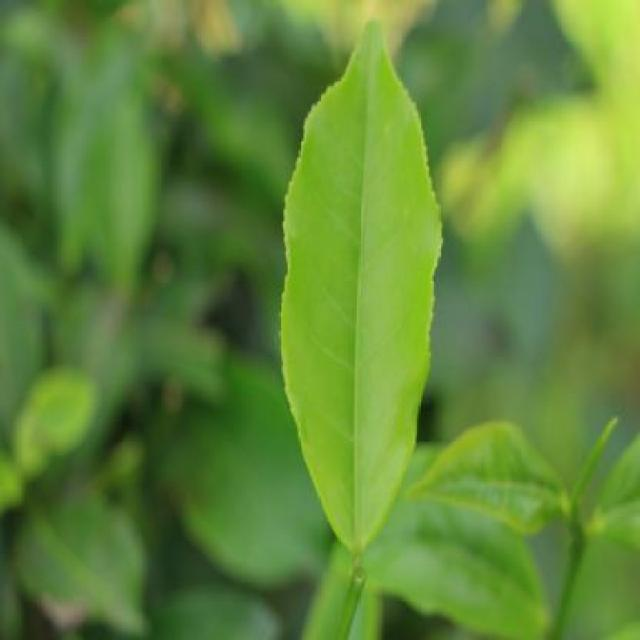Tea leaf: (277, 2, 446, 566)
